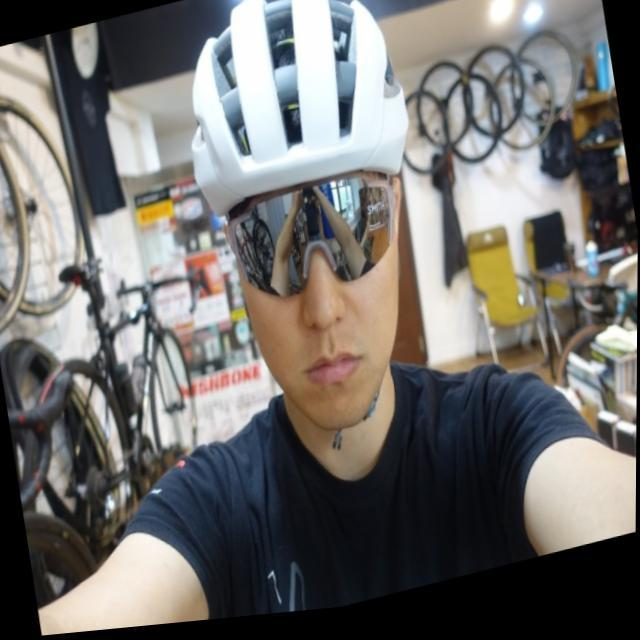Helmet: (184, 0, 420, 432)
